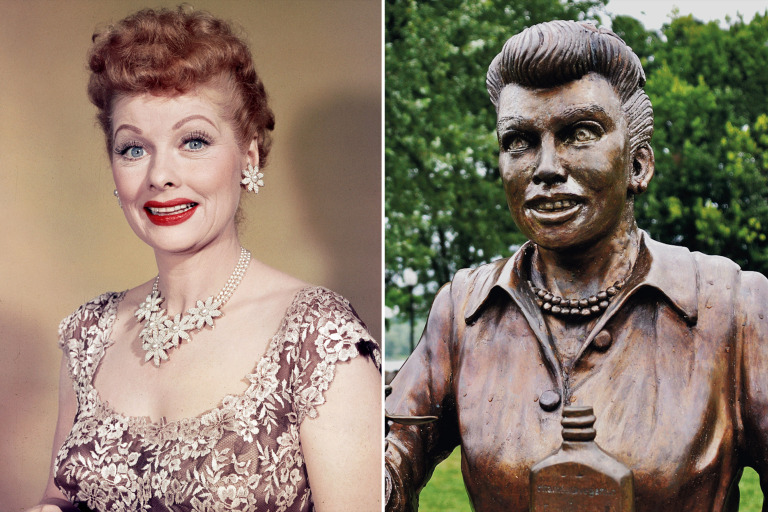person: (34, 7, 382, 512)
person-like: (384, 12, 763, 512)
